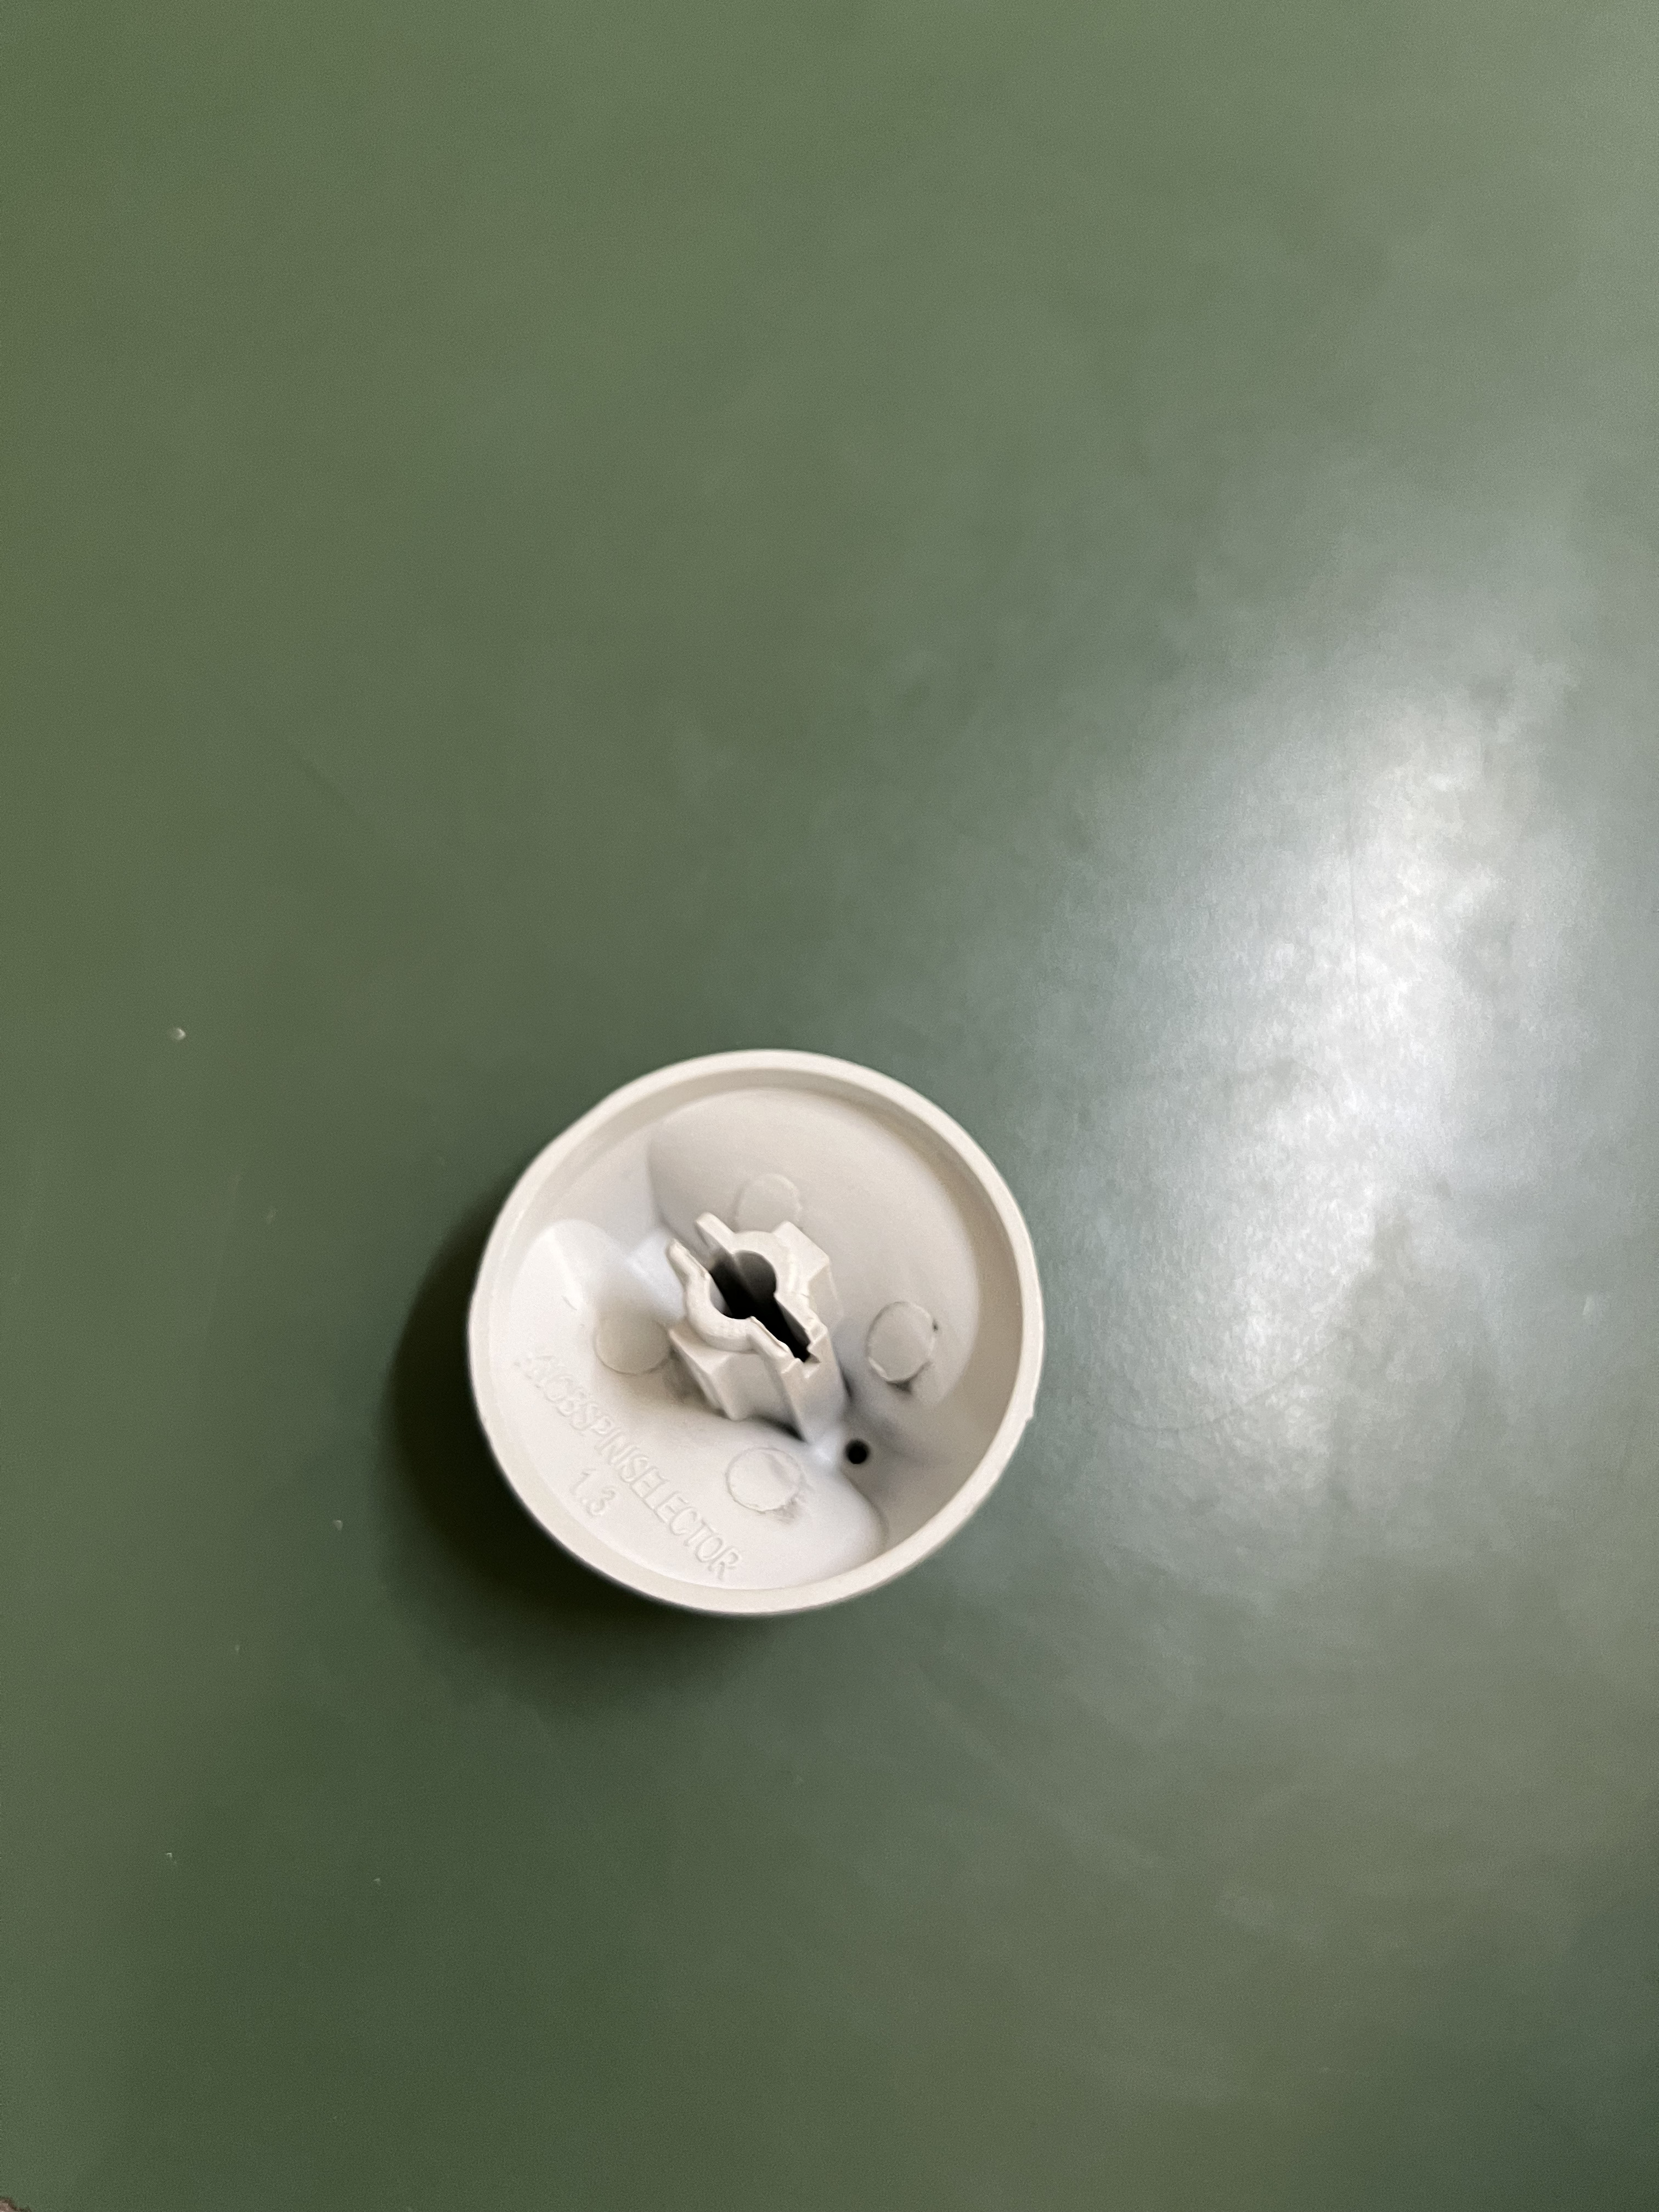regulator: (460, 1038, 1046, 1642)
